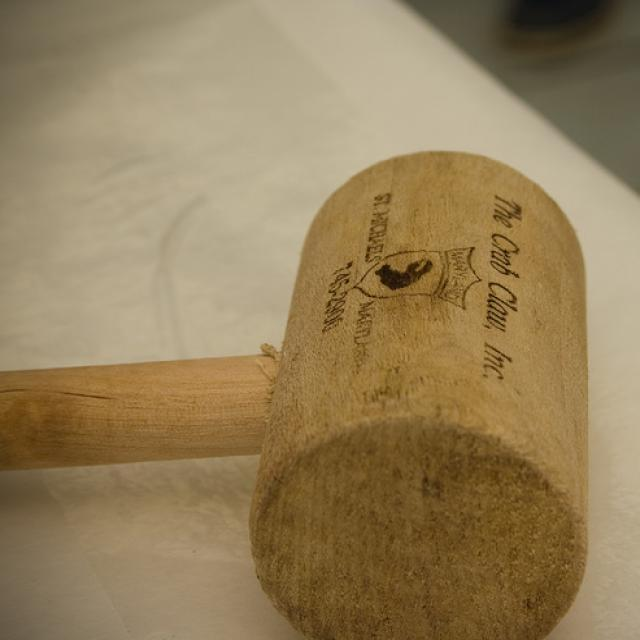hammer: (0, 141, 618, 640)
